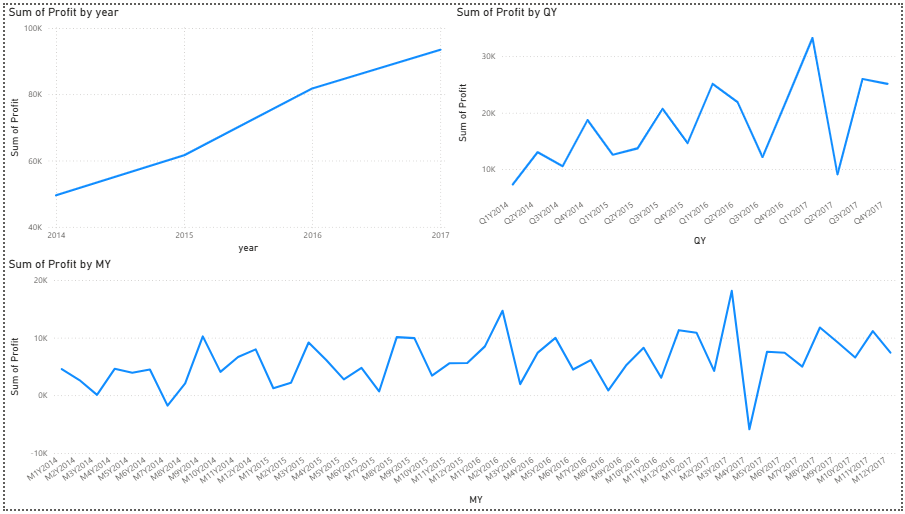

This screenshot's page, from the dashboard's own definition file:
{"tool":"powerbi","page":{"name":"#1 Q3","canvas":[1280,720],"ordinal":1},"visuals":[{"type":"lineChart","fields":{"Y":["Sum(superstore_US_raw.Profit)"],"Category":["superstore_US_raw.year"]},"box":[0,0,640,360],"z":0},{"type":"lineChart","fields":{"Y":["Sum(superstore_US_raw.Profit)"],"Category":["superstore_US_raw.QY"]},"box":[640,0,640,350],"z":1000},{"type":"lineChart","fields":{"Y":["Sum(superstore_US_raw.Profit)"],"Category":["superstore_US_raw.MY"]},"box":[0,360,1280,360],"z":2000}]}

Visuals, with their boxes in screenshot pixels (x1, y1, x2, y2), scaled from the page's 1280x720 canvas onto the 905x514 screenshot:
lineChart - Sum(superstore_US_raw.Profit) x superstore_US_raw.year: <bbox>0, 0, 452, 257</bbox>
lineChart - Sum(superstore_US_raw.Profit) x superstore_US_raw.QY: <bbox>452, 0, 904, 250</bbox>
lineChart - Sum(superstore_US_raw.Profit) x superstore_US_raw.MY: <bbox>0, 257, 904, 513</bbox>
